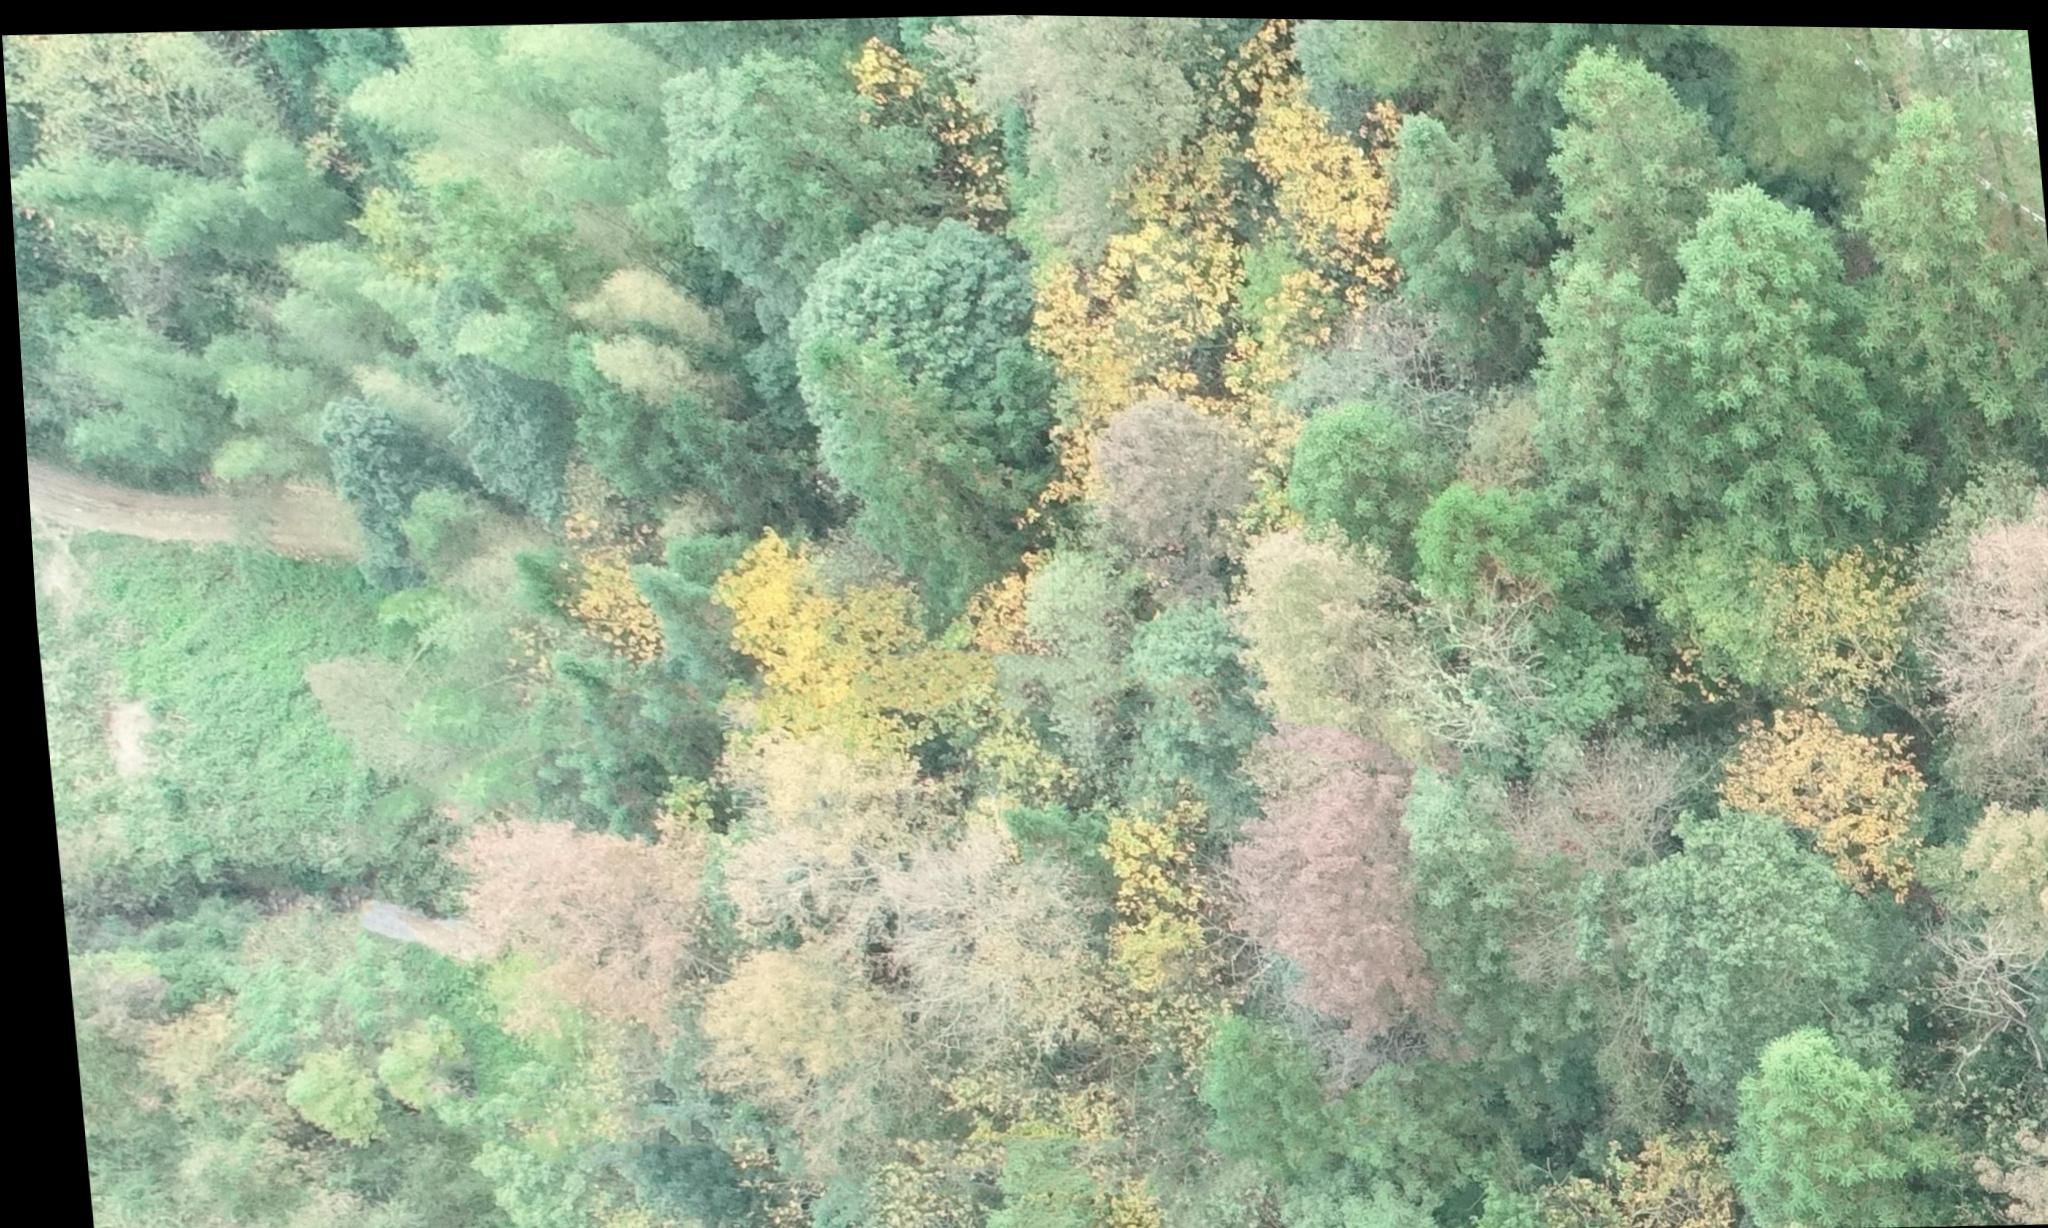heavy: (1167, 708, 1481, 1069)
